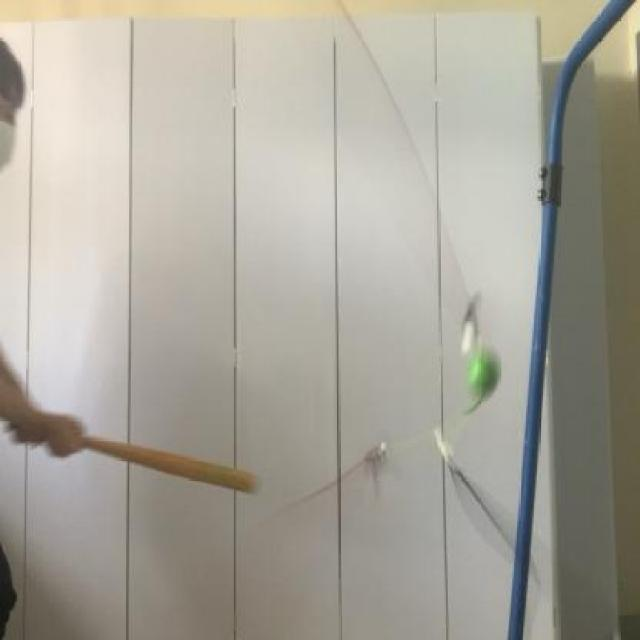baseball: (448, 343, 515, 400)
